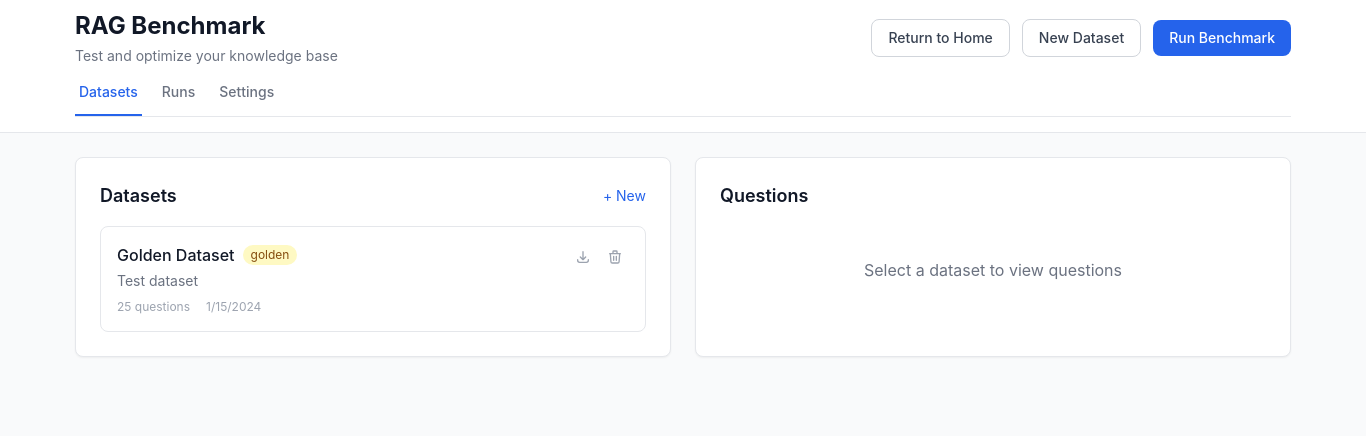
Scenario: BenchmarkDashboard › navigates to runs tab
Click the button "Runs" at coordinates (179, 99), box [158,82,199,116]
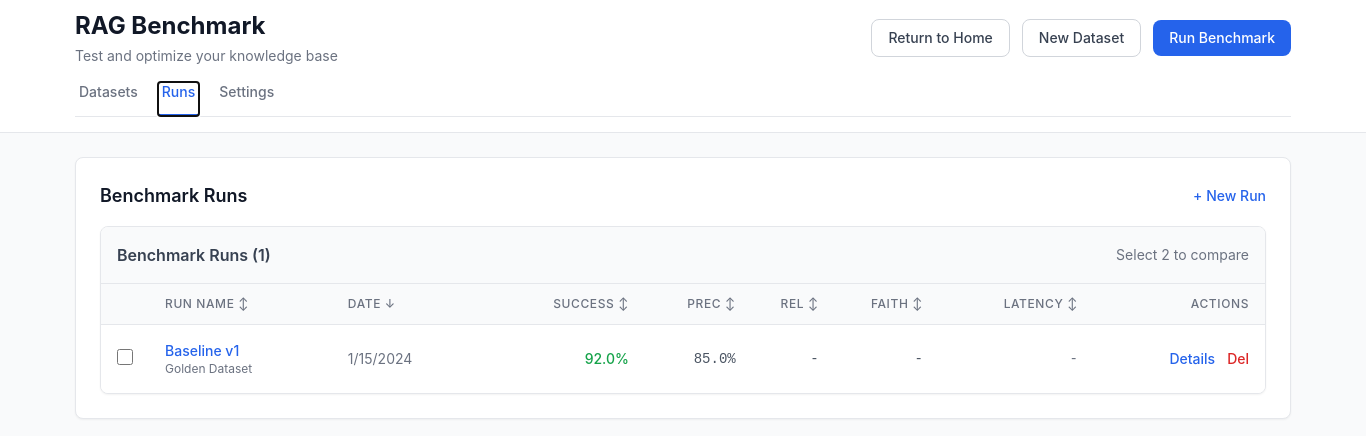
Expected: the heading "Benchmark Runs" is shown, [100,182,248,210]
